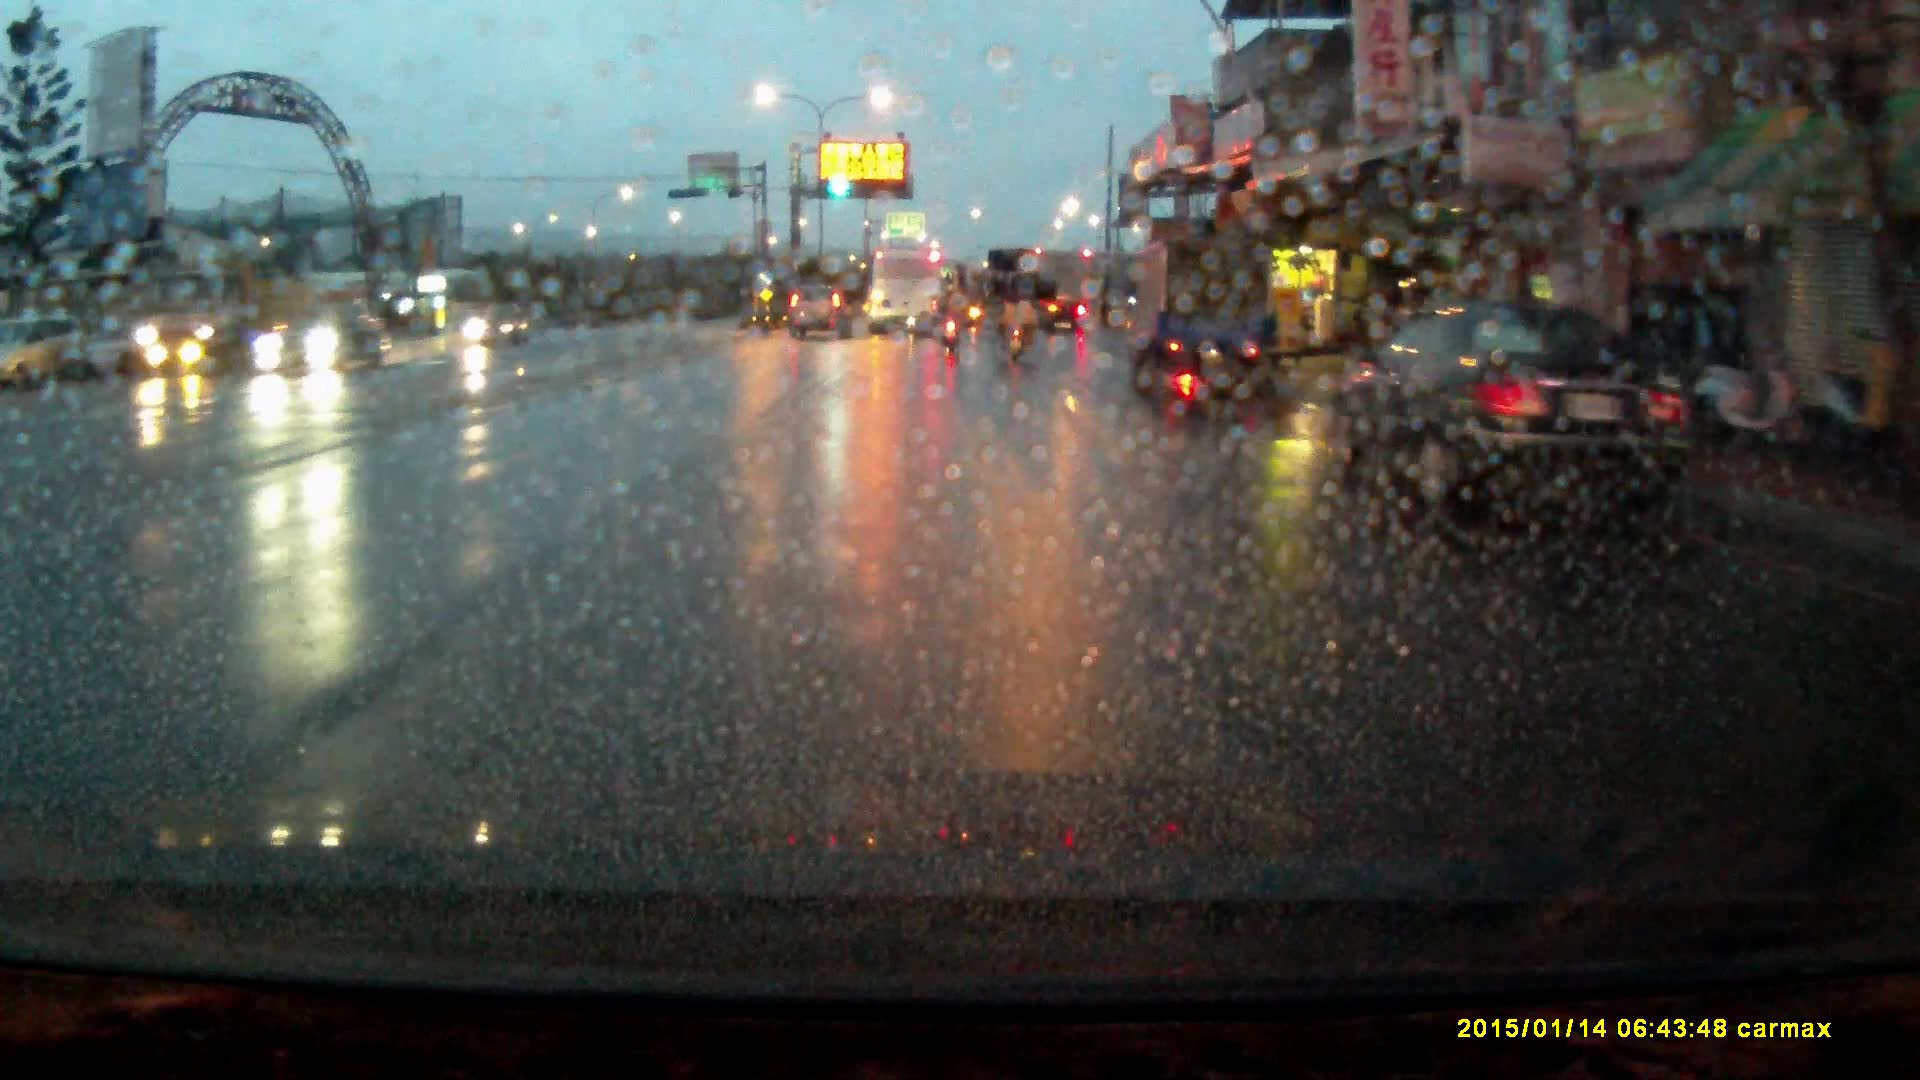rider: (998, 276, 1035, 359), (936, 285, 970, 356)
vehicle: (1344, 298, 1697, 531), (142, 253, 354, 372), (1124, 236, 1274, 382), (253, 310, 391, 378), (1, 310, 106, 390), (871, 246, 940, 337), (990, 251, 1057, 338), (789, 278, 854, 340), (457, 301, 536, 347)
